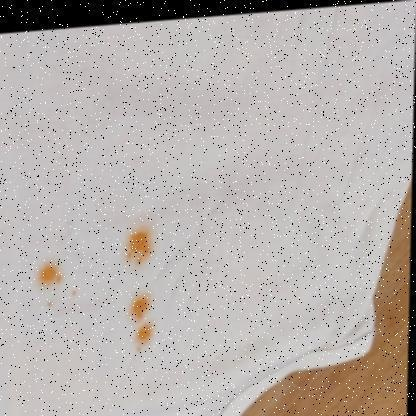kimchi: (120, 289, 168, 350), (121, 224, 153, 270), (30, 256, 67, 290), (59, 282, 83, 303), (44, 300, 53, 311)
